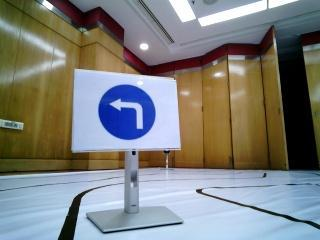left: (83, 76, 171, 143)
